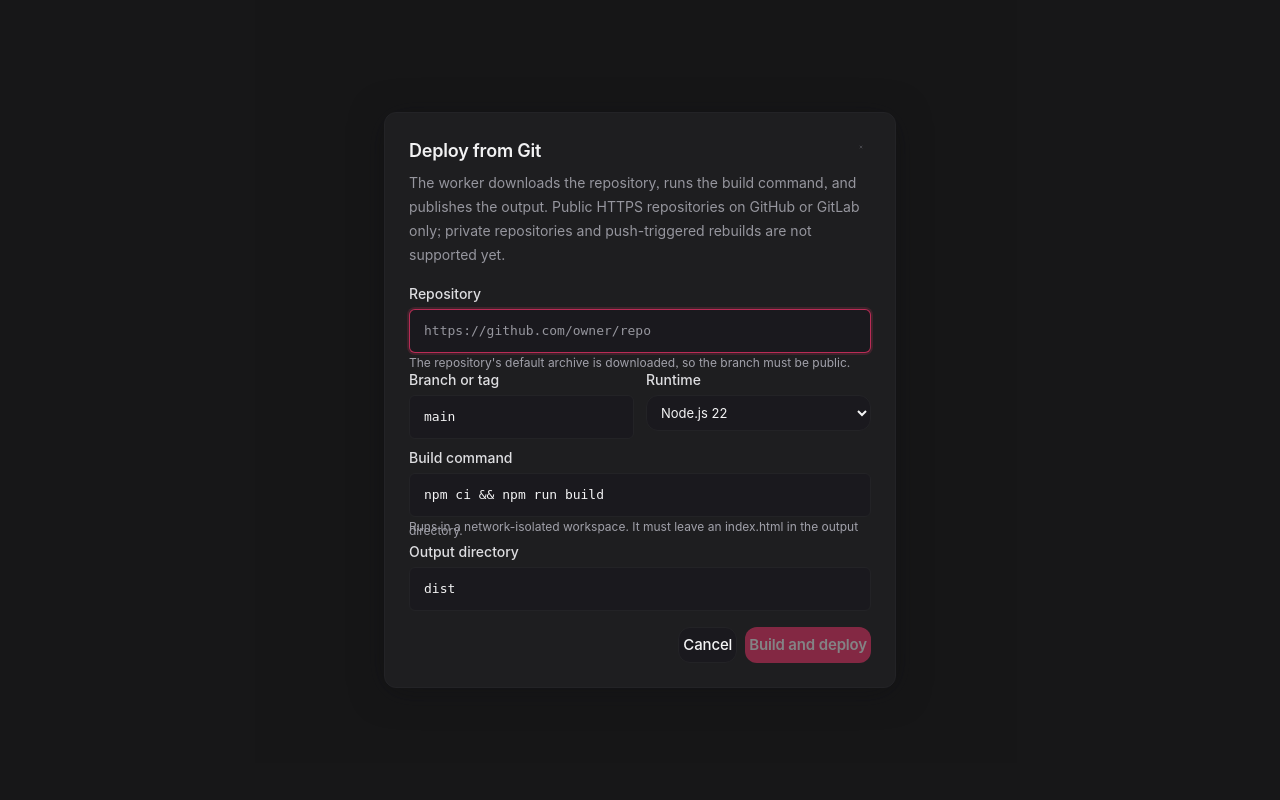
Scenario: GitDeployDialog › refuses a repository the API would reject
Type "http://github.com/o/r" into the field labelled "Repository" at coordinates (640, 331), box [409,309,871,353]
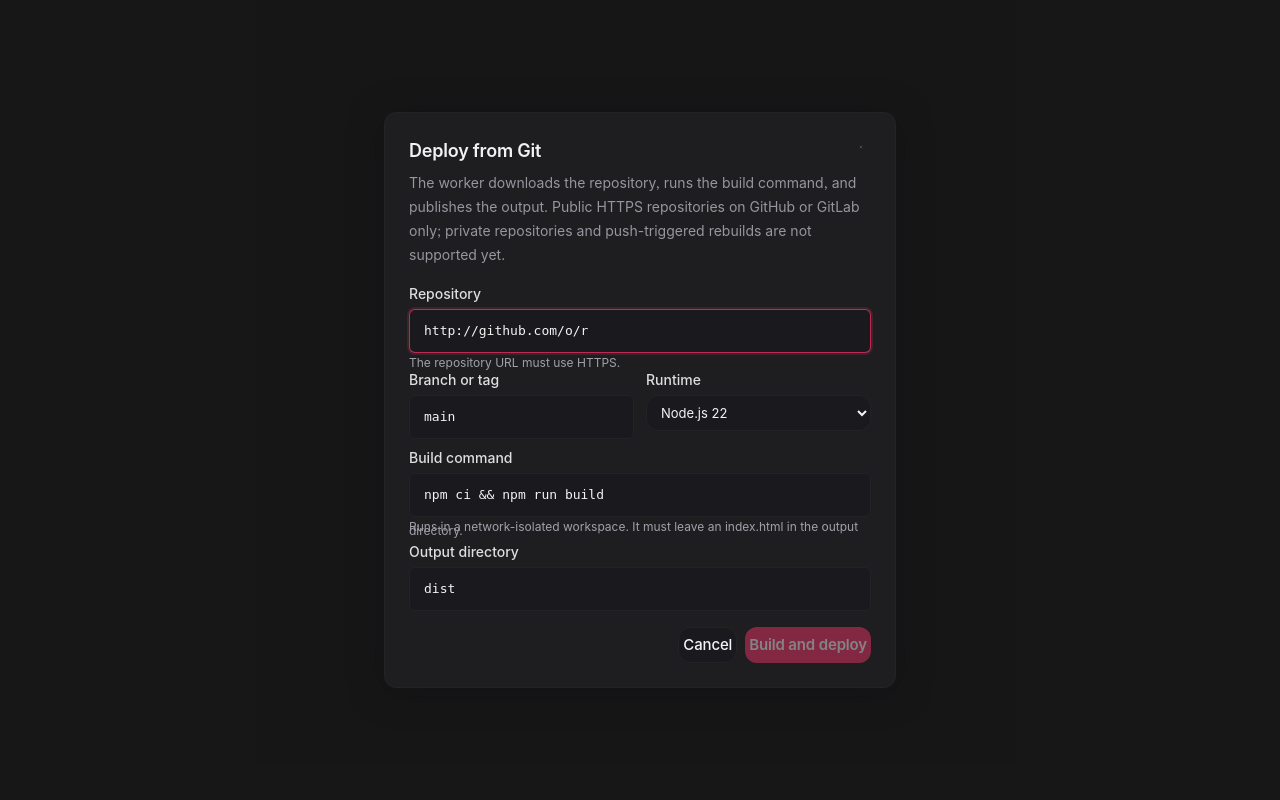
Expected: the button "Build and deploy" is disabled, [745,627,871,663]
Now the text "The repository URL must use HTTPS." is shown, box [409,355,620,370]
Replace the text in the field labelled "Repository" with "https://example.com/o/r" at coordinates (640, 331), box [409,309,871,353]
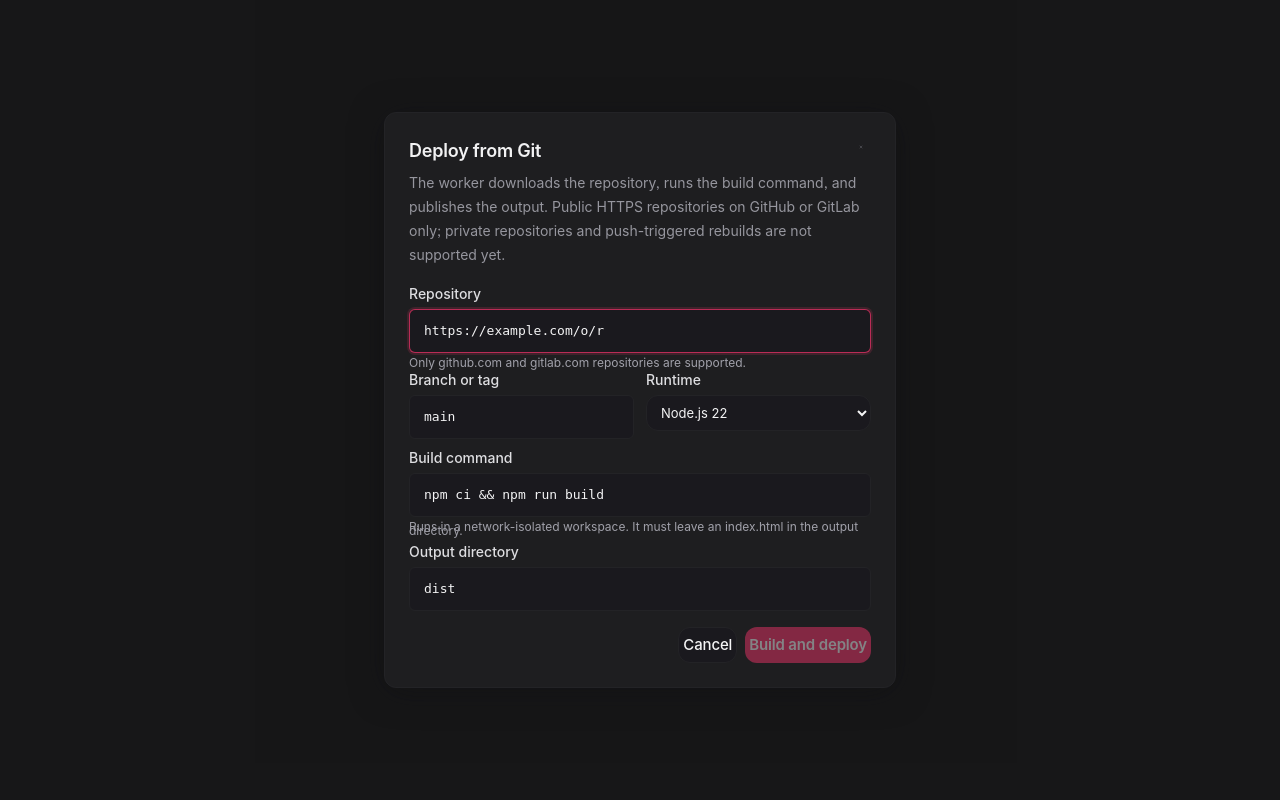
Now the text "Only github.com and gitlab.com repositories are supported." is shown, box [409,355,746,370]
Replace the text in the field labelled "Repository" with "https://github.com/owner" at coordinates (640, 331), box [409,309,871,353]
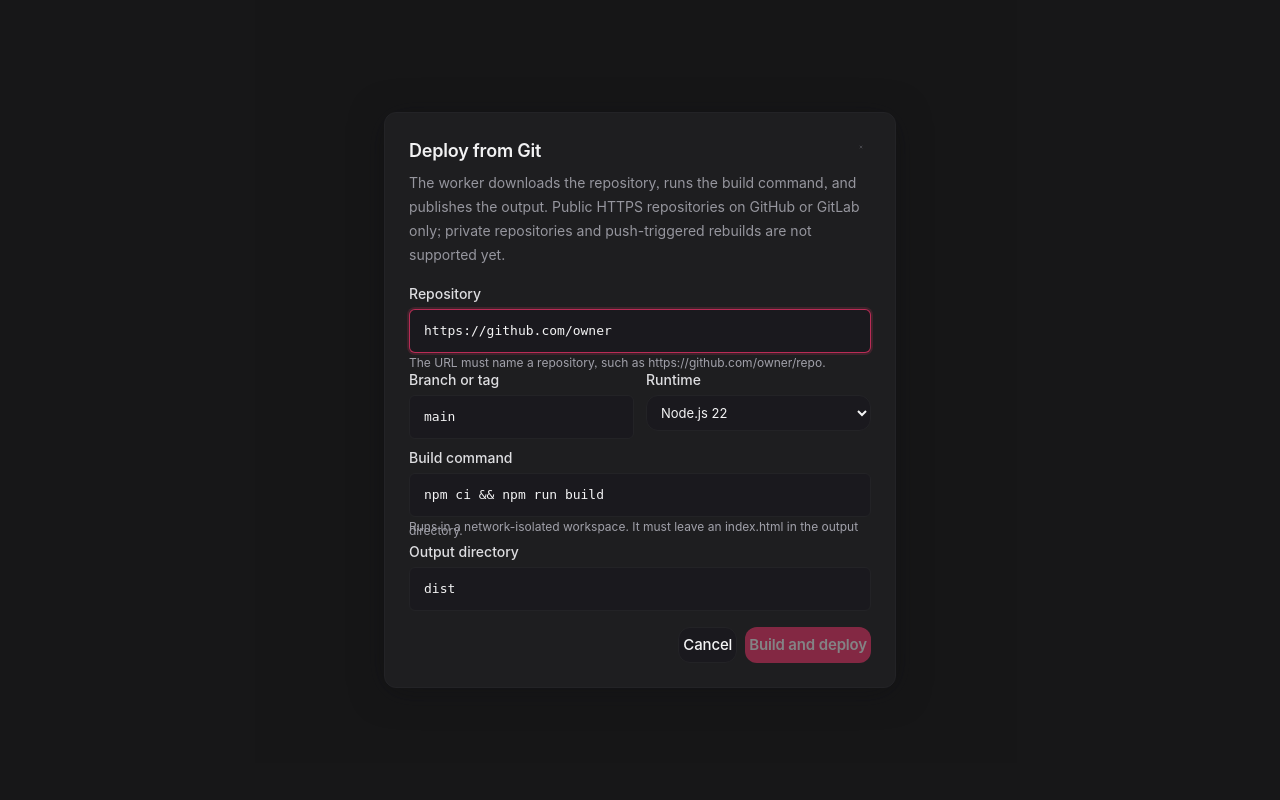
Now the text "must name a repository" is shown, box [409,355,826,370]
Replace the text in the field labelled "Repository" with "https://github.com/owner/repo" at coordinates (640, 331), box [409,309,871,353]
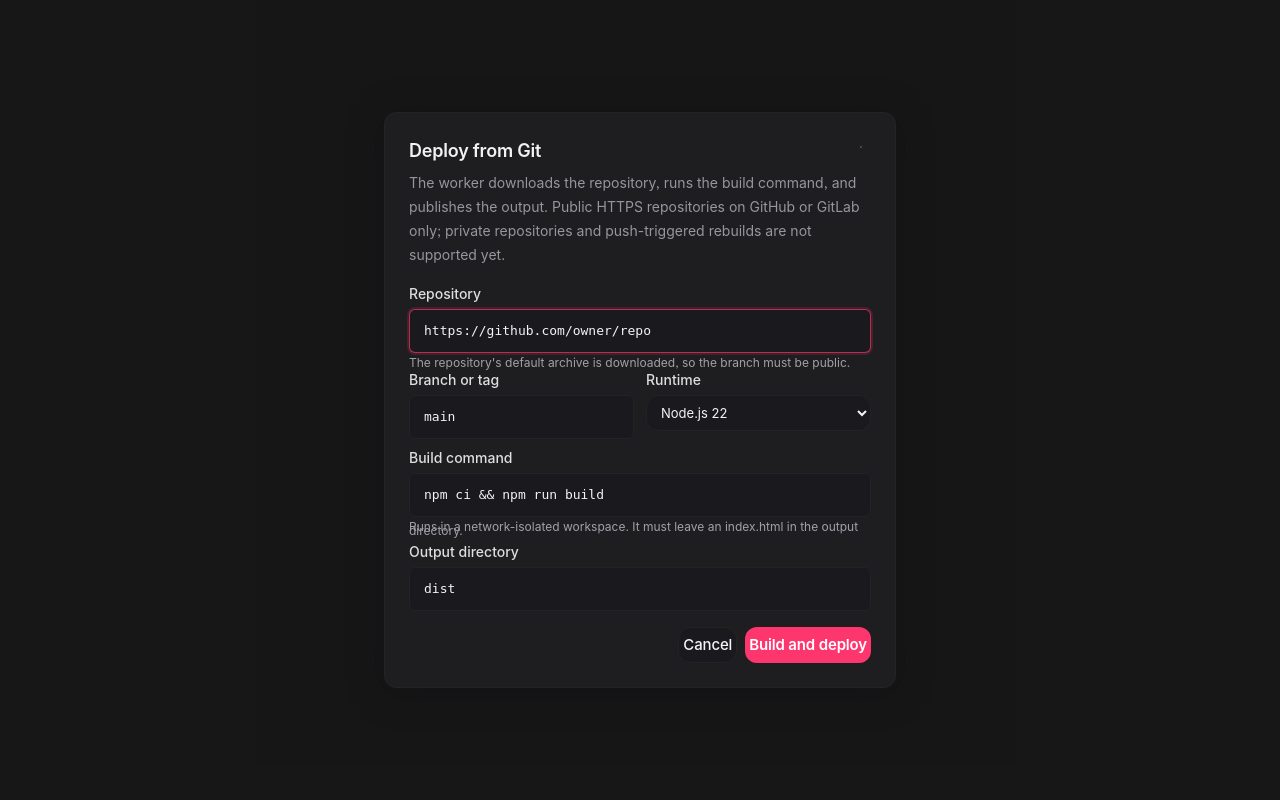
Now the button "Build and deploy" is enabled, box [745,627,871,663]
